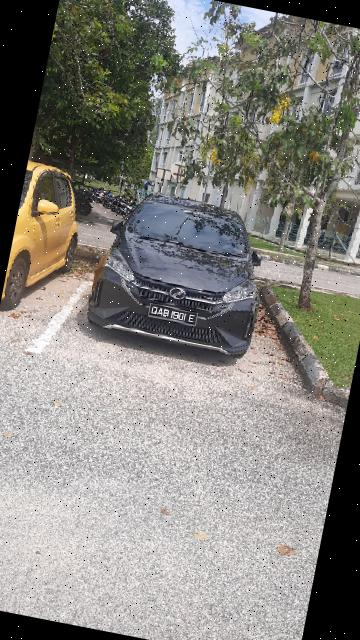License_Plate: (145, 301, 201, 330)
car: (78, 179, 279, 367)
